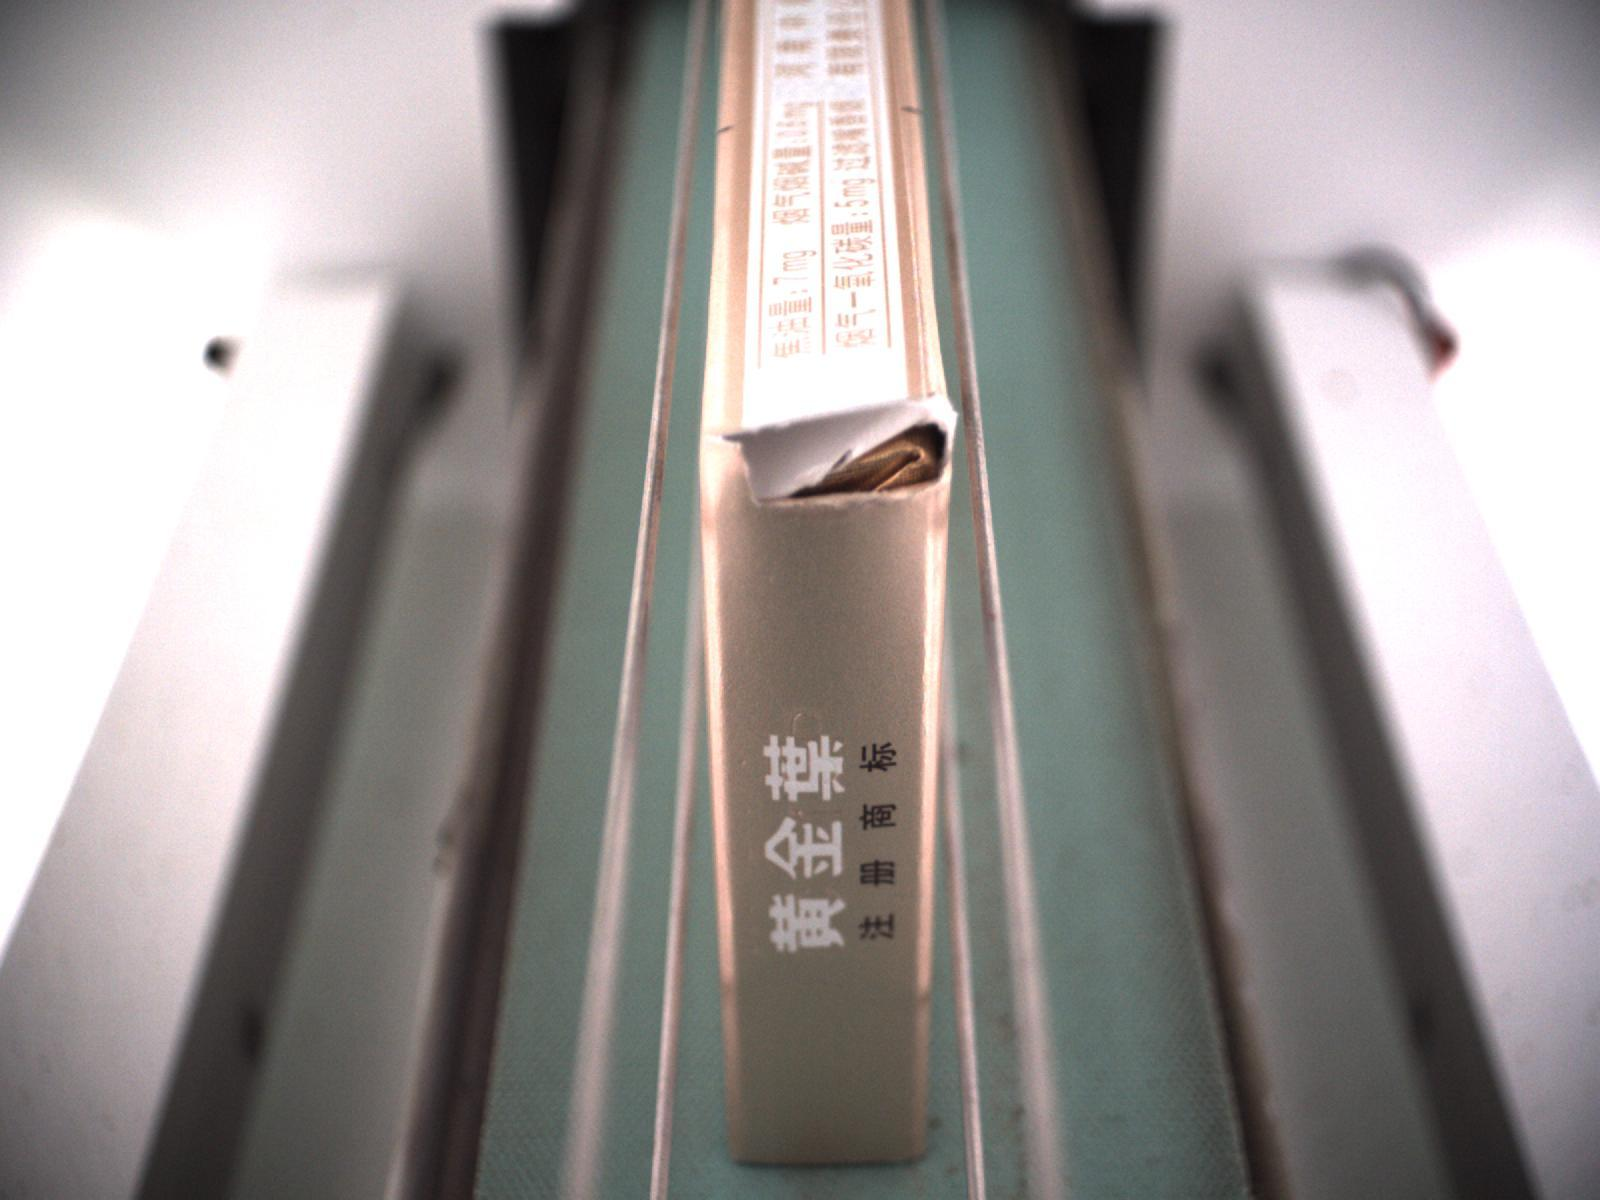headOpen_upper: (702, 384, 962, 516)
